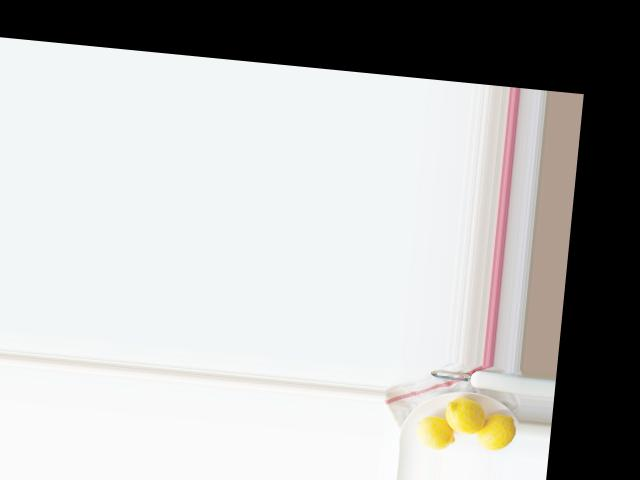lemon: (475, 415, 520, 452)
